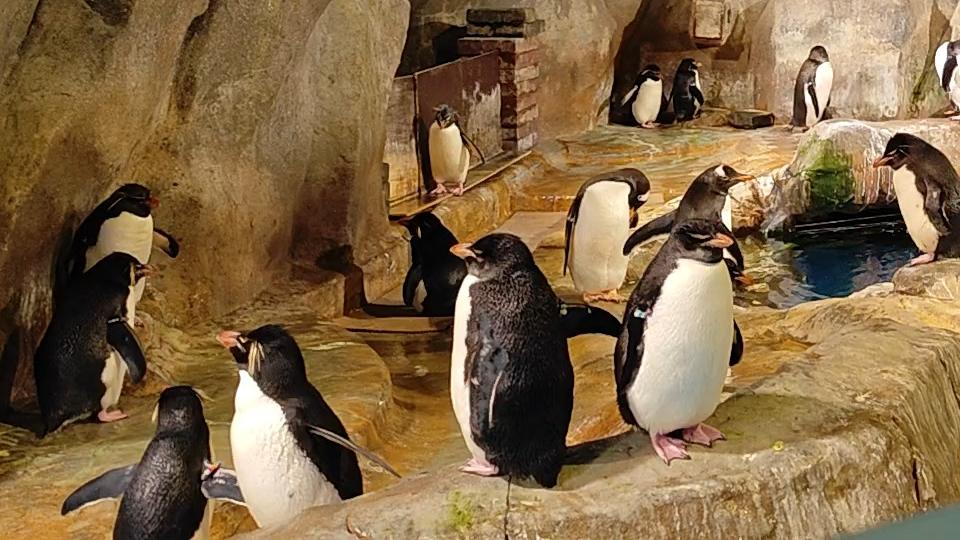Southern Rockhopper Penguin: (206, 321, 406, 536), (434, 228, 577, 497), (614, 217, 747, 465), (59, 382, 258, 540), (27, 247, 157, 443), (59, 179, 183, 339), (868, 127, 960, 273), (407, 103, 487, 200)
